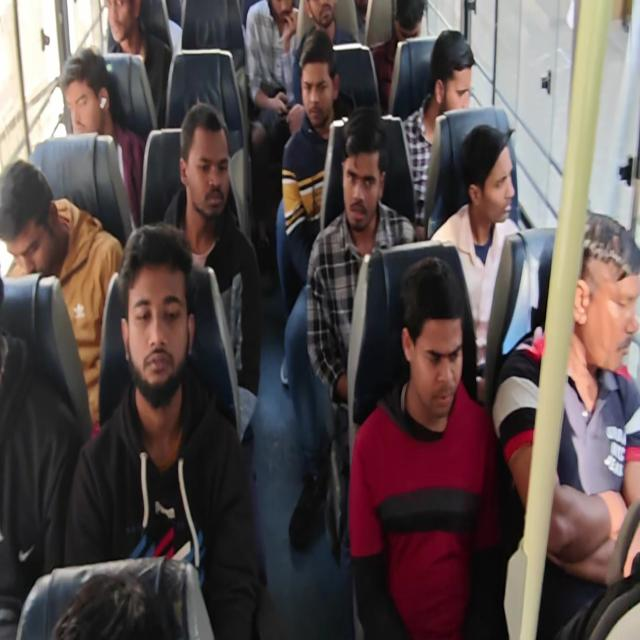person: (1, 1, 638, 638), (63, 221, 261, 638), (492, 210, 639, 638), (348, 255, 503, 638), (304, 105, 416, 547), (279, 28, 351, 548), (162, 101, 261, 455), (0, 158, 125, 434), (429, 123, 522, 391), (0, 327, 80, 638), (281, 28, 346, 284), (59, 47, 146, 228), (401, 28, 475, 231), (52, 569, 182, 639), (103, 0, 172, 128), (244, 0, 300, 150), (291, 0, 358, 106), (370, 0, 426, 115), (299, 0, 358, 48)
